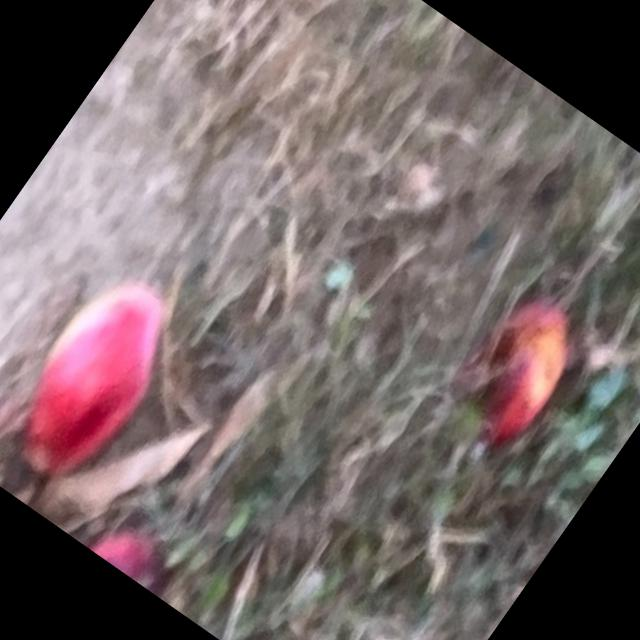Apples: (0, 269, 194, 493), (433, 286, 594, 464), (86, 510, 187, 598)
